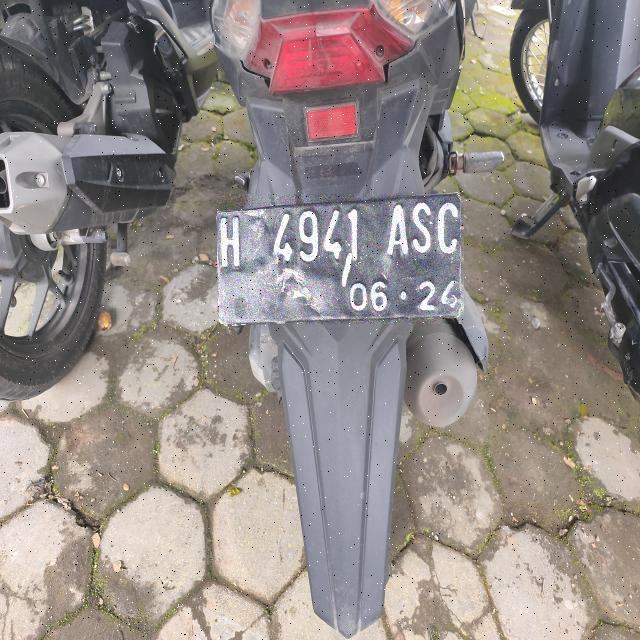plate: (217, 194, 461, 323)
